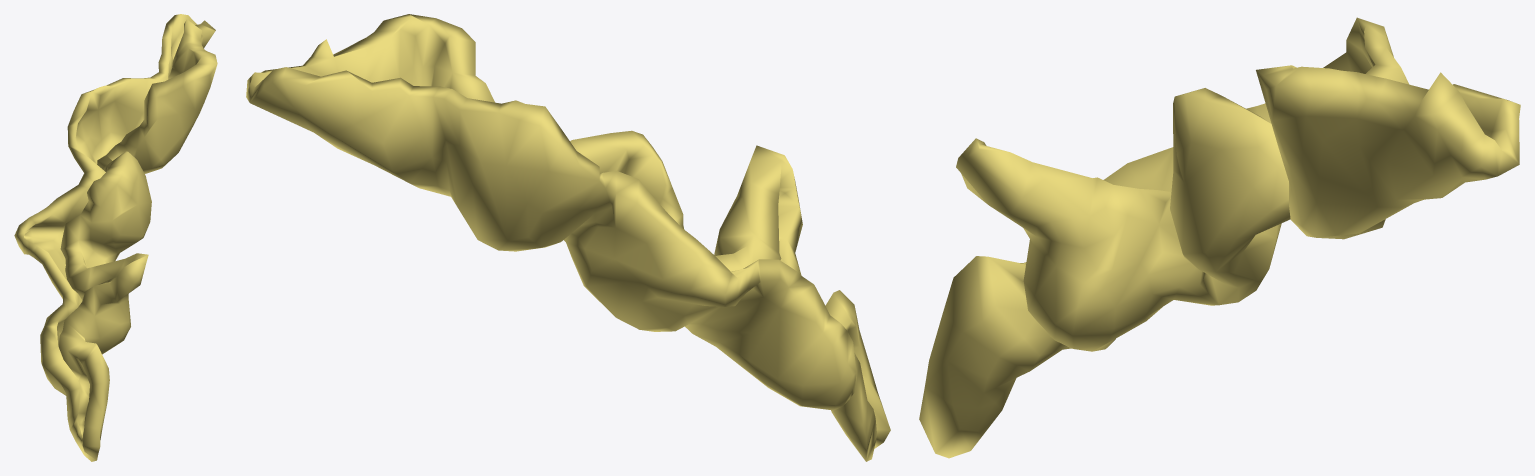
File: central-sulcus-r.glb
3 views of the same model, side by side, from view 1: azimuth 30°, elevation 25°; view 2: azimuth 150°, elevation 25°; view 3: azimuth 270°, elevation 25° (orthographic). The views are drawn at different scales.
Visible parts, largest first — view 1: Central sulcus.r; view 2: Central sulcus.r; view 3: Central sulcus.r.
Part boxes in pixels (x1,y1,x2,y2): Central sulcus.r: [14, 14, 217, 461]; Central sulcus.r: [246, 14, 890, 461]; Central sulcus.r: [919, 17, 1520, 458].
Bounding box in the file's own units: 0.0513 × 0.0532 × 0.0484.
